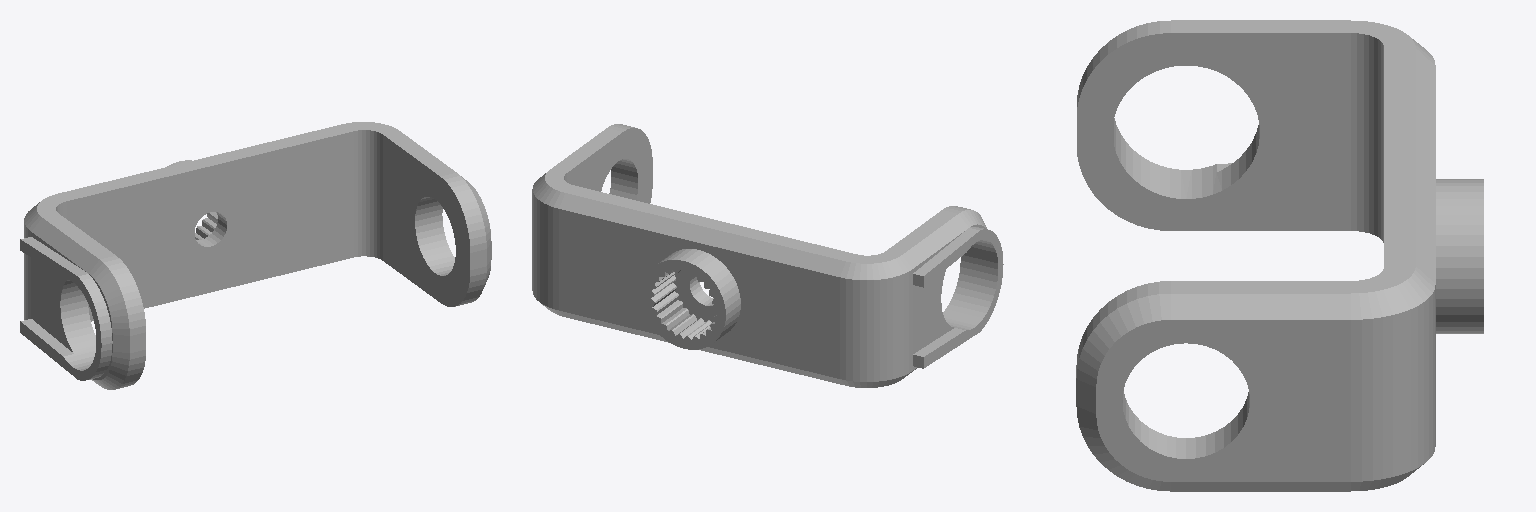
URDF robot description (root):
<?xml version='1.0' encoding='utf-8'?>
<robot name="root">
  <link name="link_001">
    <visual>
      <origin xyz="0 0 0" rpy="0 0 0" />
      <geometry>
        <mesh filename="4c26320e2f7a4473b0253948ed8a3928b9259a97d86015ac7bf3177288cf102d_scale_000.stl" scale="1.0000E+00 1.0000E+00 1.0000E+00" />
      </geometry>
      <material name="">
        <color rgba="7.50E-01 7.50E-01 7.50E-01 1" />
      </material>
    </visual>
    <collision>
      <origin xyz="0 0 0" rpy="0 0 0" />
      <geometry>
        <mesh filename="4c26320e2f7a4473b0253948ed8a3928b9259a97d86015ac7bf3177288cf102d_scale_000.stl" scale="1.0000E+00 1.0000E+00 1.0000E+00" />
      </geometry>
    </collision>
  </link>
</robot>

--- Render facts (derived) ---
The picture shows the robot from 3 angles, left to right: view 1: azimuth 30°, elevation 25°; view 2: azimuth 150°, elevation 25°; view 3: azimuth 270°, elevation 25°; orthographic projection.
Robot: root — 1 links, 0 joints (none); root link link_001; default pose: all joints at 0.
Visible links, largest first — view 1: link_001; view 2: link_001; view 3: link_001.
Link boxes in pixels (x1,y1,x2,y2): link_001: [20, 122, 491, 389]; link_001: [532, 124, 1003, 387]; link_001: [1076, 20, 1483, 491].
Size in the robot's own frame: 0.12 by 0.0692 by 0.0371 metres.
1 mesh visuals loaded from 1 distinct referenced files (1 binary STL).
